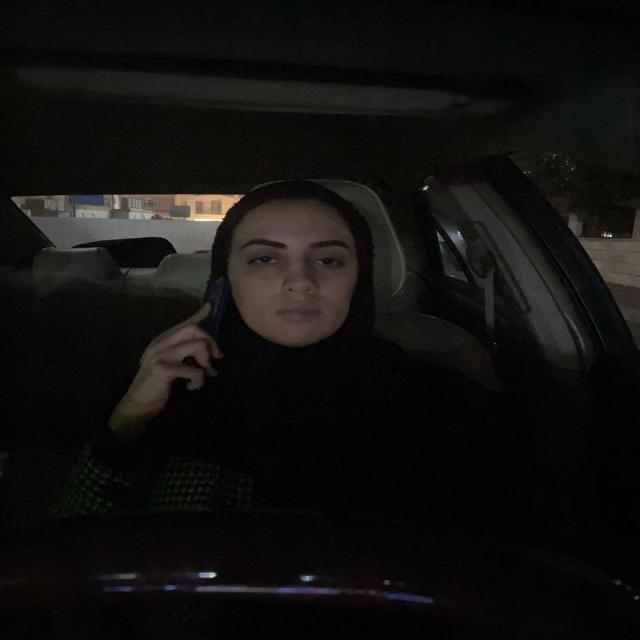mobile: (183, 277, 240, 406)
person: (225, 188, 370, 346)
